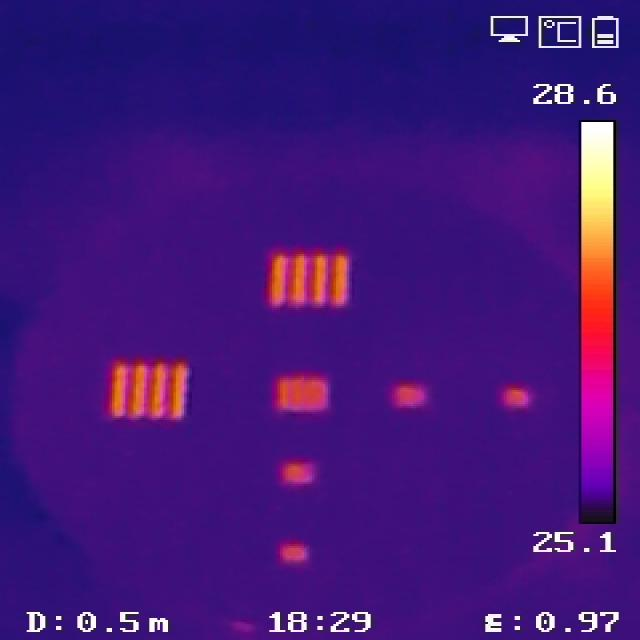Distinguishable 4-bar target: (265, 248, 352, 308), (112, 358, 193, 421)
Indistinguishable 4-bar target: (277, 455, 324, 484), (499, 389, 532, 413), (282, 542, 310, 564), (395, 390, 425, 408)
threshold 4-bar target: (276, 374, 328, 413)
